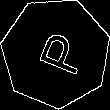P_W: (25, 26, 86, 80)
